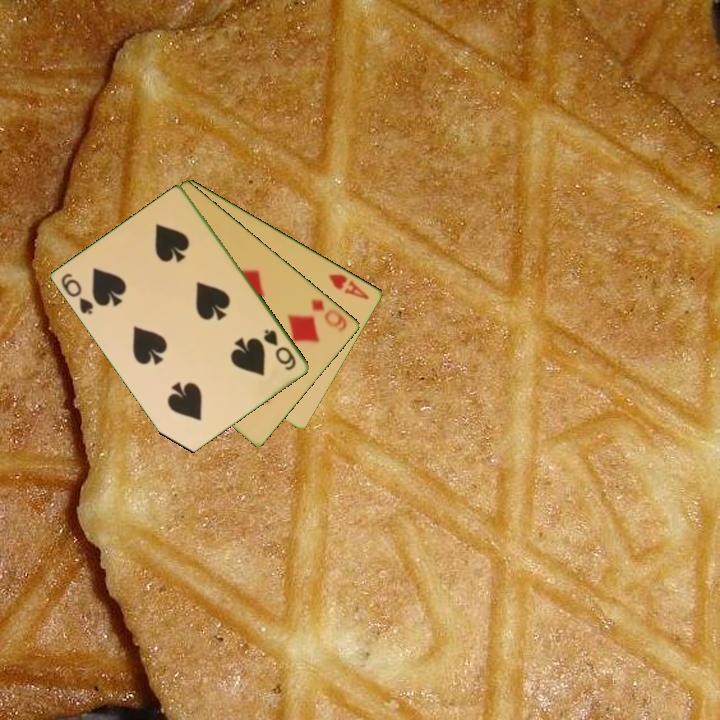6d: (308, 295, 350, 335)
6s: (58, 269, 97, 318), (260, 326, 299, 374)
Ah: (325, 270, 372, 303)
